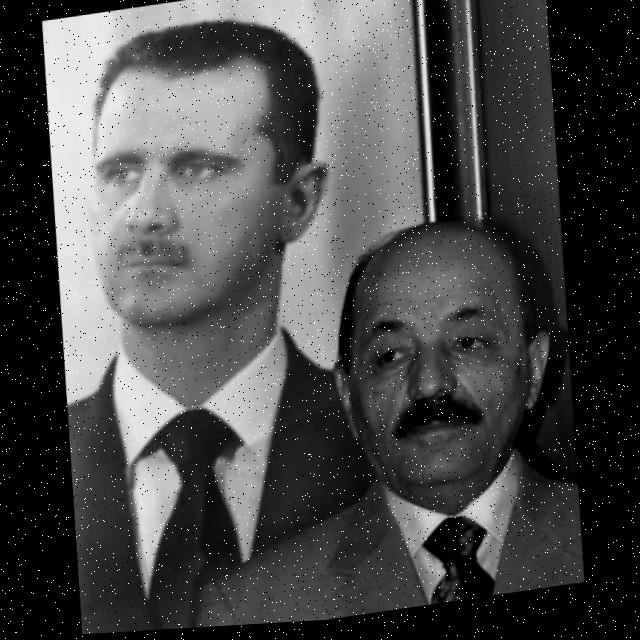face: (86, 0, 323, 365), (333, 215, 551, 516)
